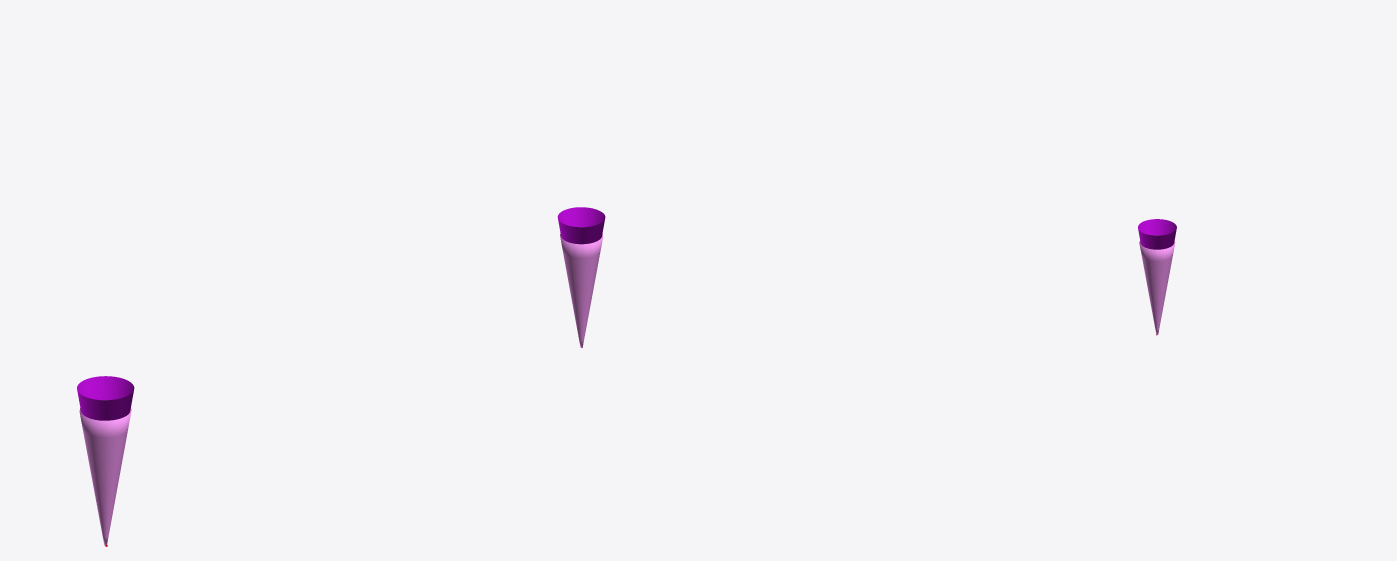
Rendered from WashLight--RTP-SplitMesh-SingleSided-HQ.fbx.
The picture shows the model from 3 angles, left to right: view 1: azimuth 30°, elevation 25°; view 2: azimuth 150°, elevation 25°; view 3: azimuth 270°, elevation 25°; orthographic projection. The views are drawn at different scales.
Parts seen in each view (by area): view 1: MoverWashLightMesh-ProjectionPassMesh-HQ, MoverWashLightMesh-VolumetricPassMesh-HQ; view 2: MoverWashLightMesh-ProjectionPassMesh-HQ, MoverWashLightMesh-VolumetricPassMesh-HQ; view 3: MoverWashLightMesh-ProjectionPassMesh-HQ, MoverWashLightMesh-VolumetricPassMesh-HQ.
Boxes of the visible parts, x1,y1,x2,y2 form: MoverWashLightMesh-ProjectionPassMesh-HQ: (79, 400, 131, 545); MoverWashLightMesh-VolumetricPassMesh-HQ: (77, 376, 134, 420); MoverWashLightMesh-ProjectionPassMesh-HQ: (560, 227, 603, 347); MoverWashLightMesh-VolumetricPassMesh-HQ: (557, 207, 605, 244); MoverWashLightMesh-ProjectionPassMesh-HQ: (1139, 235, 1175, 334); MoverWashLightMesh-VolumetricPassMesh-HQ: (1138, 219, 1176, 249).
Size of the model in its own units: 70.47 by 70.55 by 77.09.
